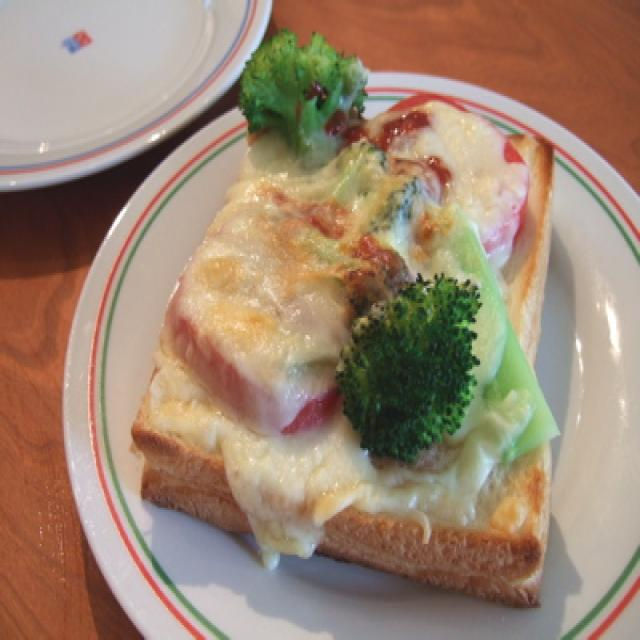面包点心: (80, 68, 632, 630)
